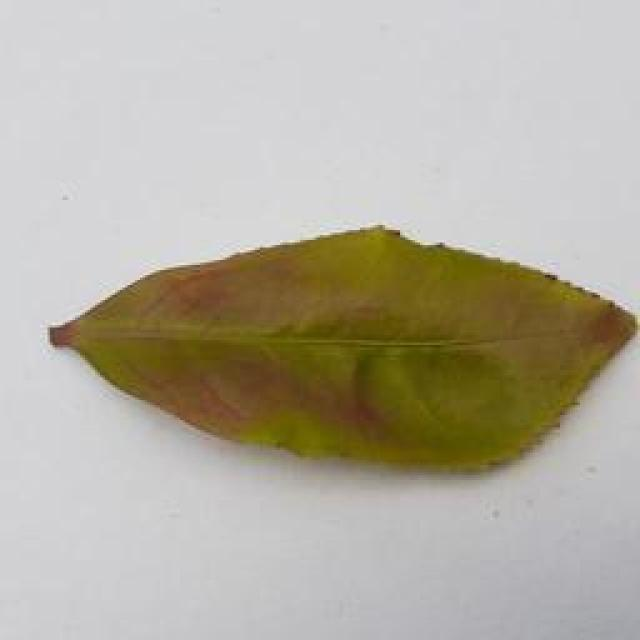Red Leaf Spot: (45, 220, 639, 479)
